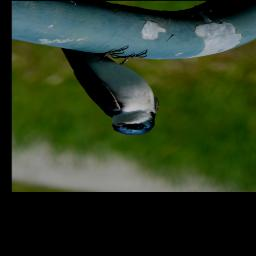Swallow: (61, 45, 162, 137)
